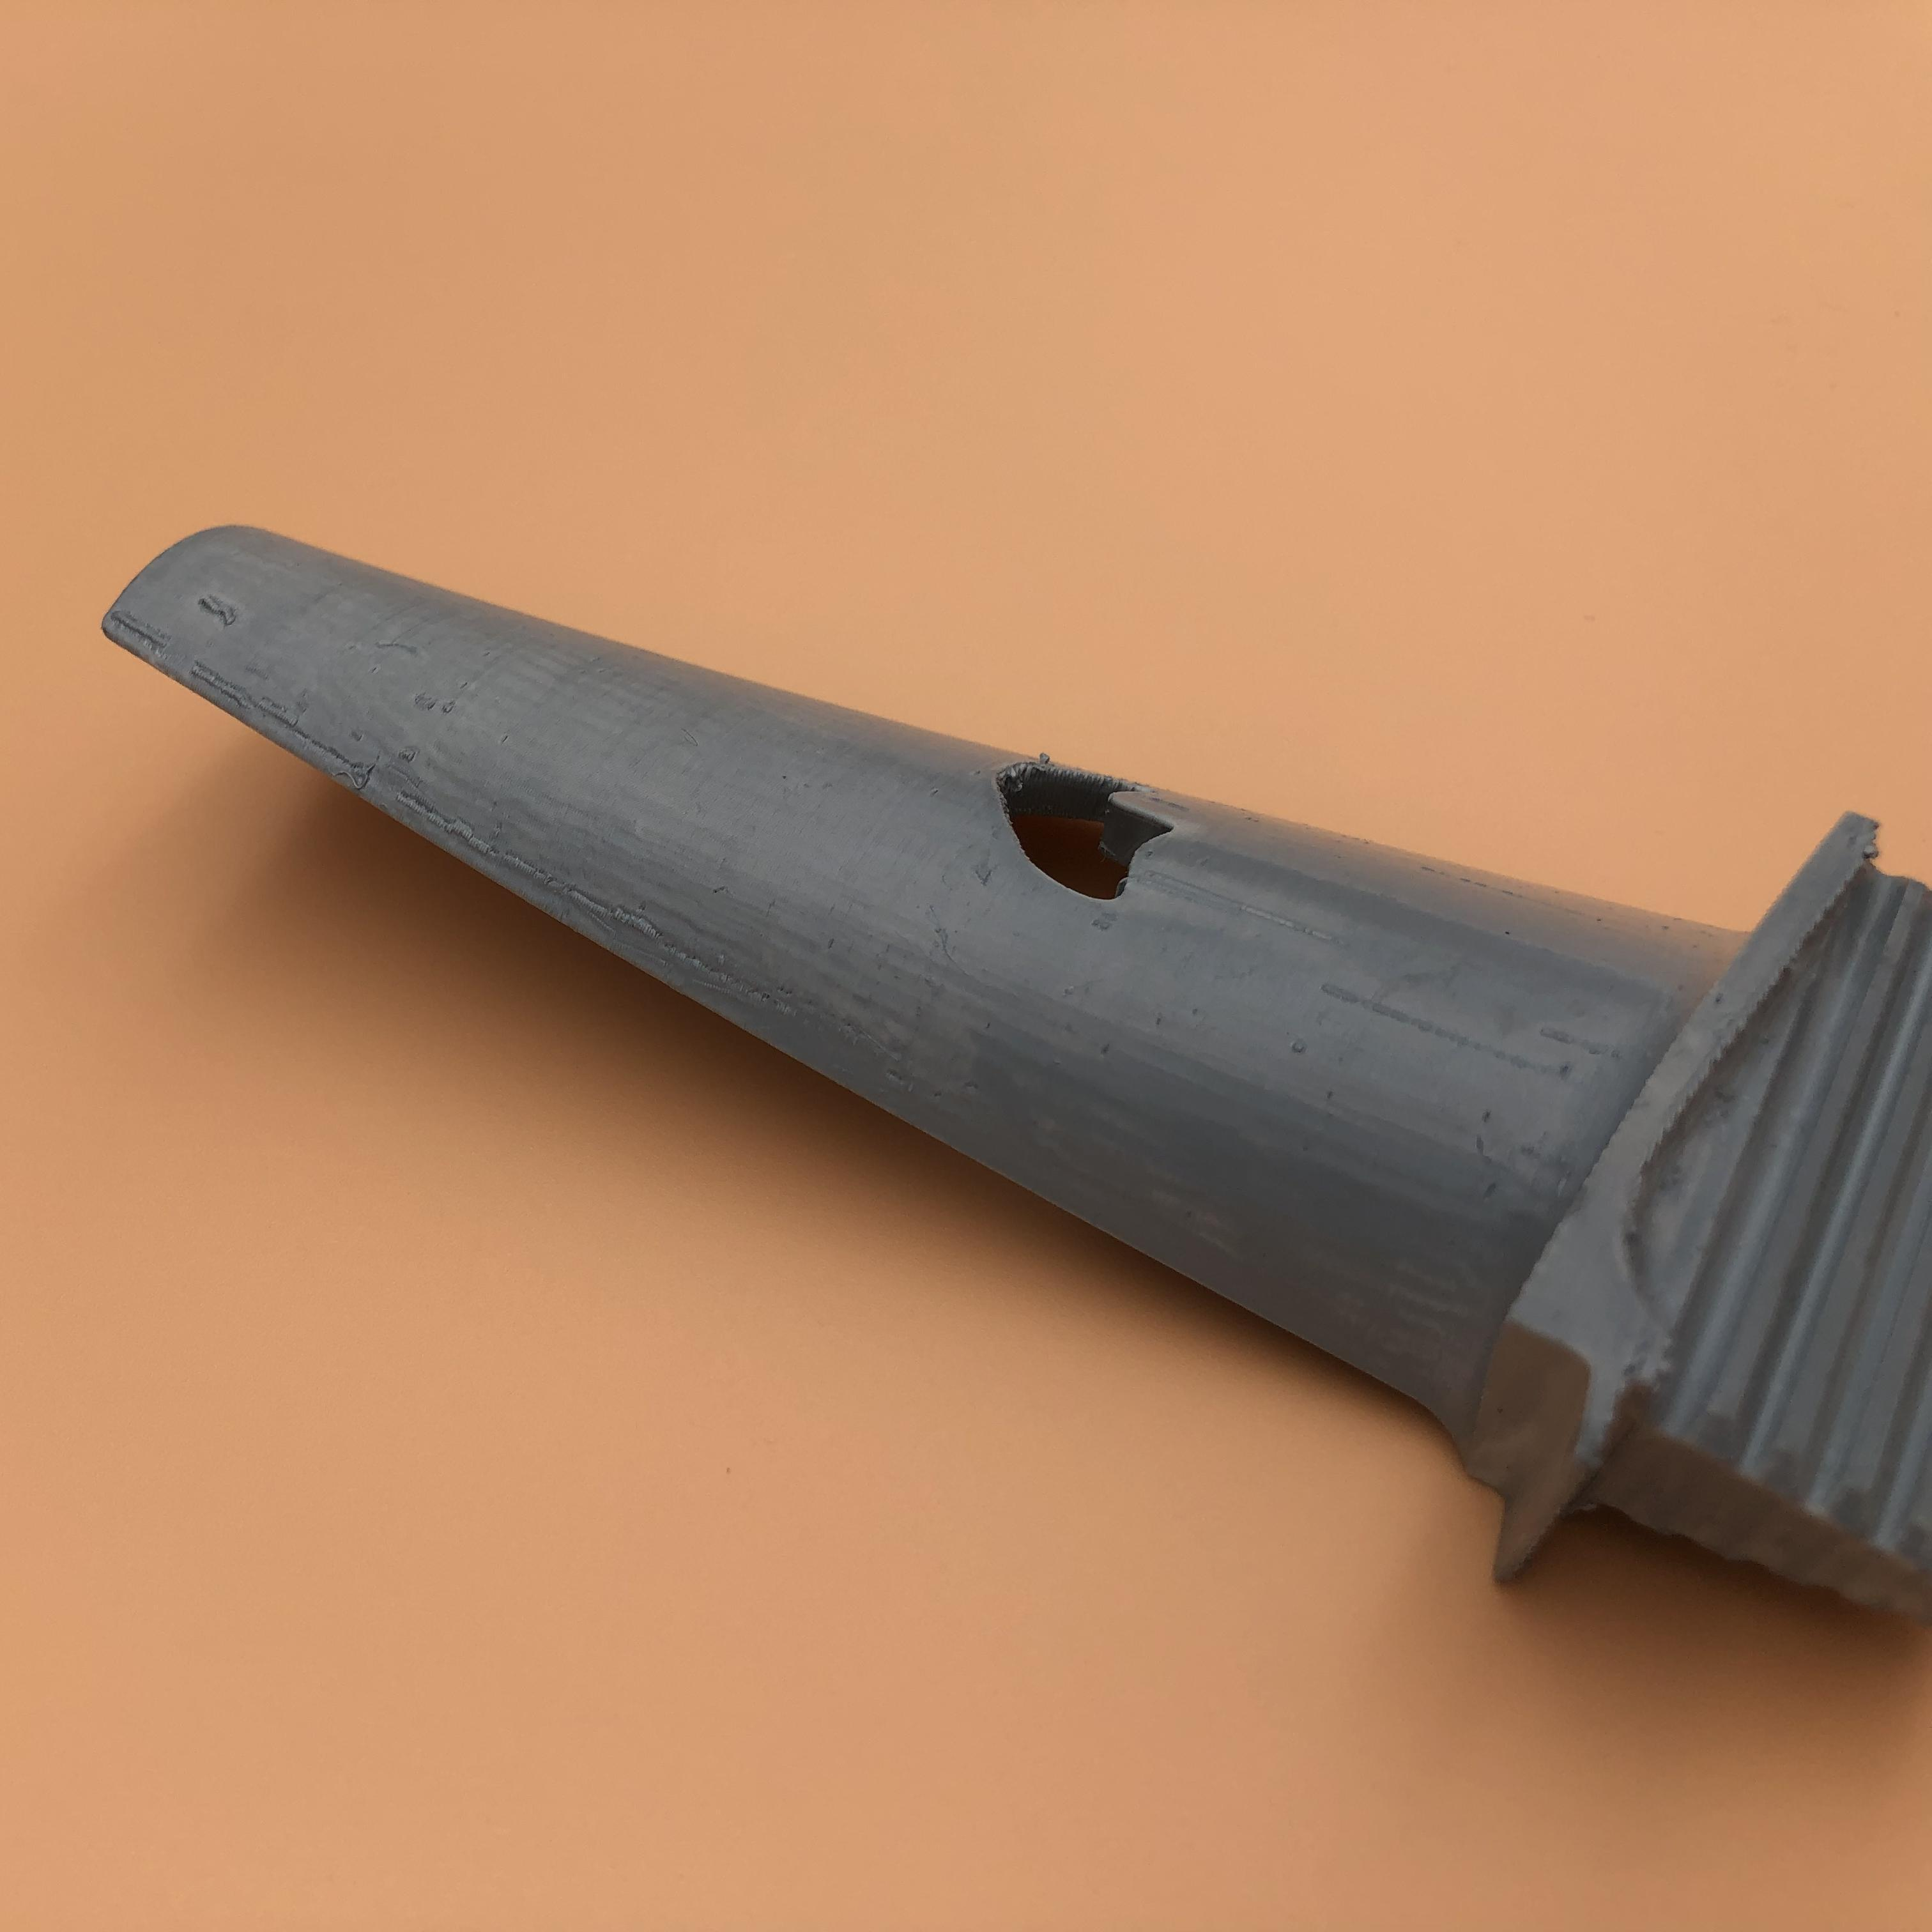breakdown: (993, 752, 1182, 911)
